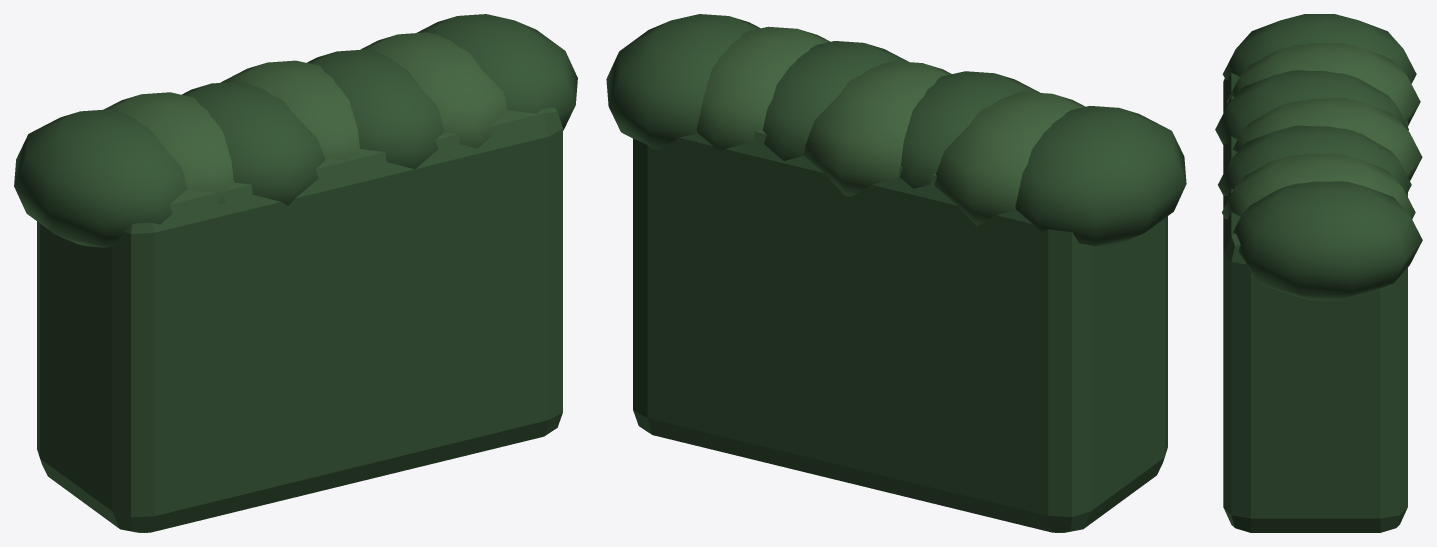
Rendered from Hedge.glb.
3 renders of one model, left to right at view 1: azimuth 30°, elevation 25°; view 2: azimuth 150°, elevation 25°; view 3: azimuth 270°, elevation 25°, orthographic. The views are drawn at different scales.
Parts seen in each view (by area): view 1: Hedge; view 2: Hedge; view 3: Hedge.
Boxes of the visible parts, <box> form: Hedge: <box>14,14,577,532</box>; Hedge: <box>606,14,1186,532</box>; Hedge: <box>1215,14,1422,532</box>.
Bounding box in the file's own units: 2.38 × 1.62 × 0.8993.
